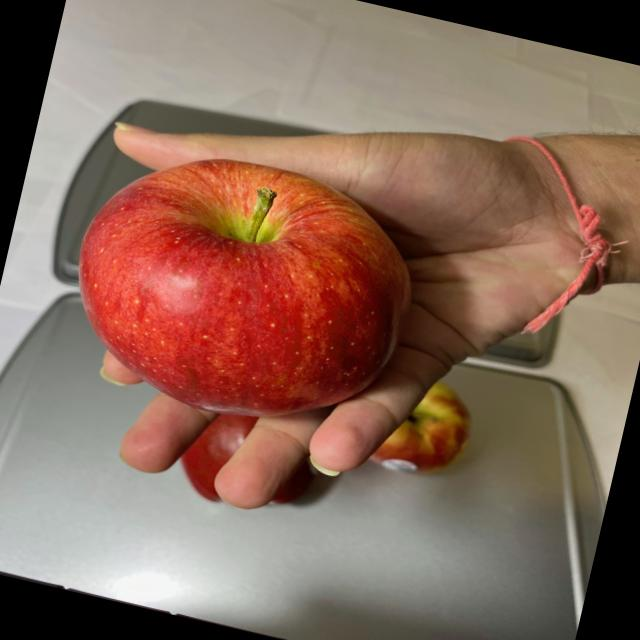apple: (49, 126, 435, 448)
